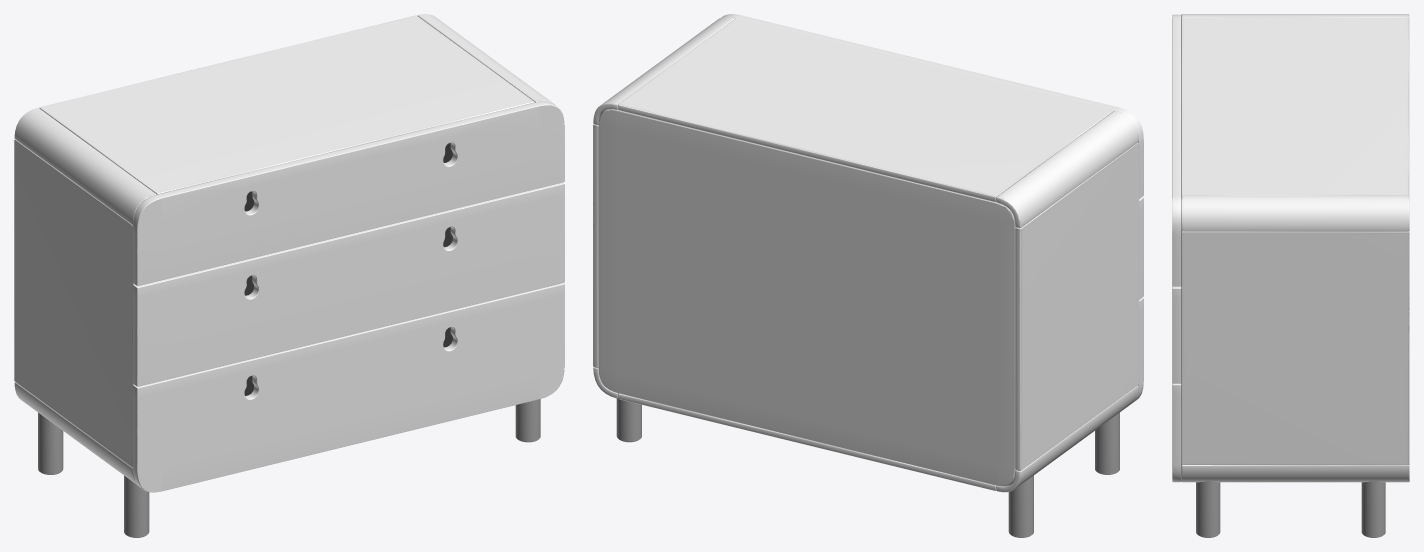
The model's file is chest.glb.
The picture shows the model from 3 angles, left to right: view 1: azimuth 30°, elevation 25°; view 2: azimuth 150°, elevation 25°; view 3: azimuth 270°, elevation 25°; orthographic projection. The views are drawn at different scales.
Parts seen in each view (by area): view 1: WHITE_PATTERN, WHITE, ORANGE; view 2: WHITE, ORANGE, WHITE_PATTERN; view 3: WHITE, WHITE_PATTERN, ORANGE.
Boxes of the visible parts, box(x1,y1,x2,y2) form: WHITE_PATTERN: box(133, 101, 564, 492); WHITE: box(14, 14, 554, 485); ORANGE: box(38, 399, 540, 537); WHITE: box(593, 17, 1138, 492); ORANGE: box(616, 398, 1119, 537); WHITE_PATTERN: box(721, 14, 1143, 403); WHITE: box(1181, 14, 1409, 482); WHITE_PATTERN: box(1172, 14, 1181, 482); ORANGE: box(1196, 481, 1385, 537).
Size of what is drawn, in the model's own units: 0.9 by 0.7 by 0.4498.
3 materials, 1 textured.
